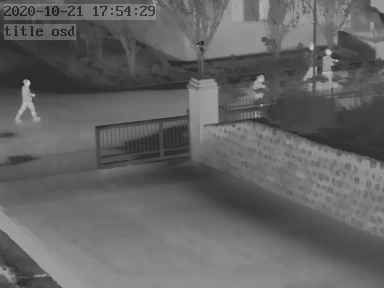person: (17, 77, 38, 121), (322, 48, 334, 77)
